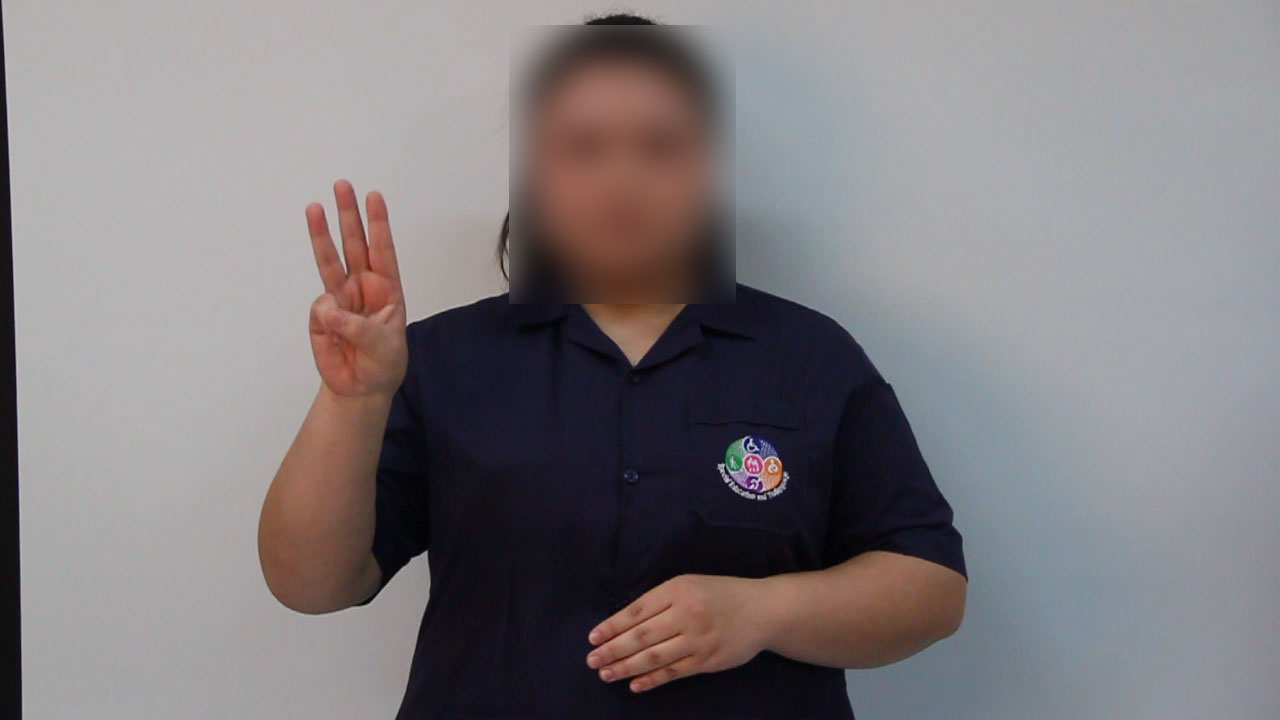wor: (291, 170, 419, 406)
